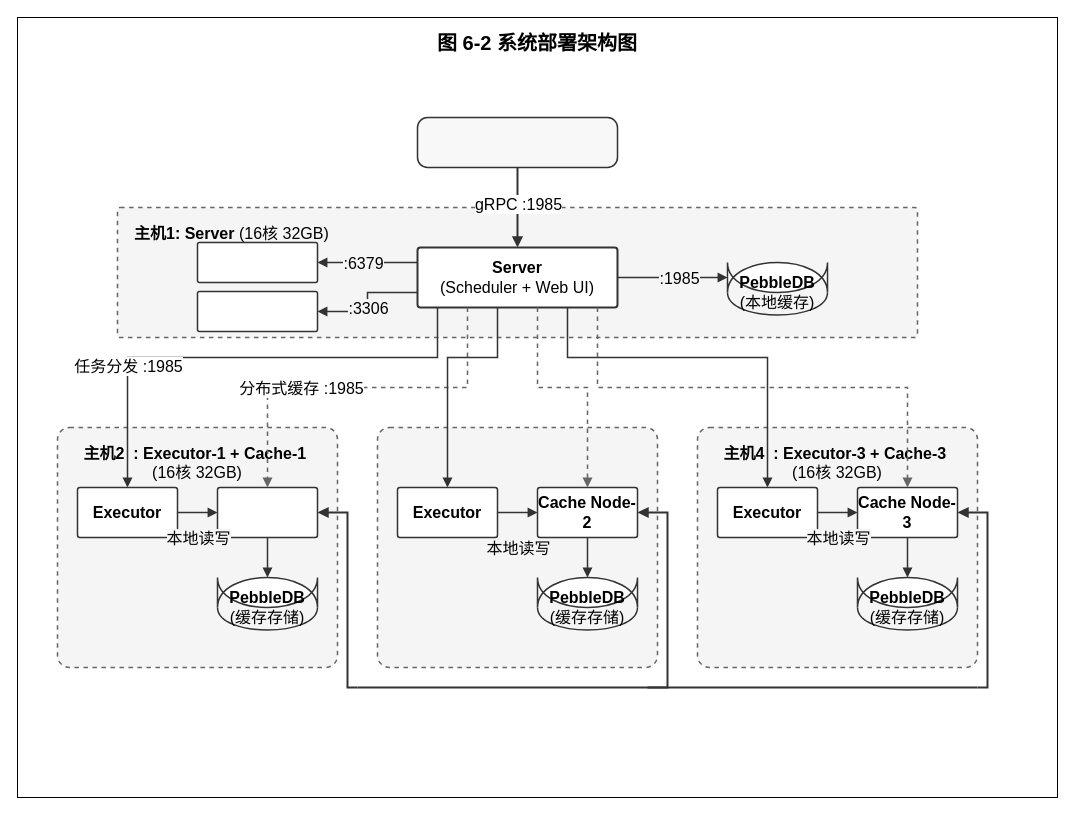
The diagram is 1075 pixels wide and 815 high, and some of its shapes have lost their labels. The box of each missing label's shape, as (x1, y1, x2, y2) in pixels:
Cache Node-1: (216, 486, 318, 538)
MySQL (元数据存储): (196, 290, 318, 332)
Ninja 客户端 (OHOS 构建环境): (416, 116, 618, 168)
Raft 复制总线 :1986: (602, 689, 787, 719)
Redis (任务队列): (196, 241, 318, 283)
主机3 : Executor-2 + Cache-2 (16核 32GB): (376, 426, 658, 668)
